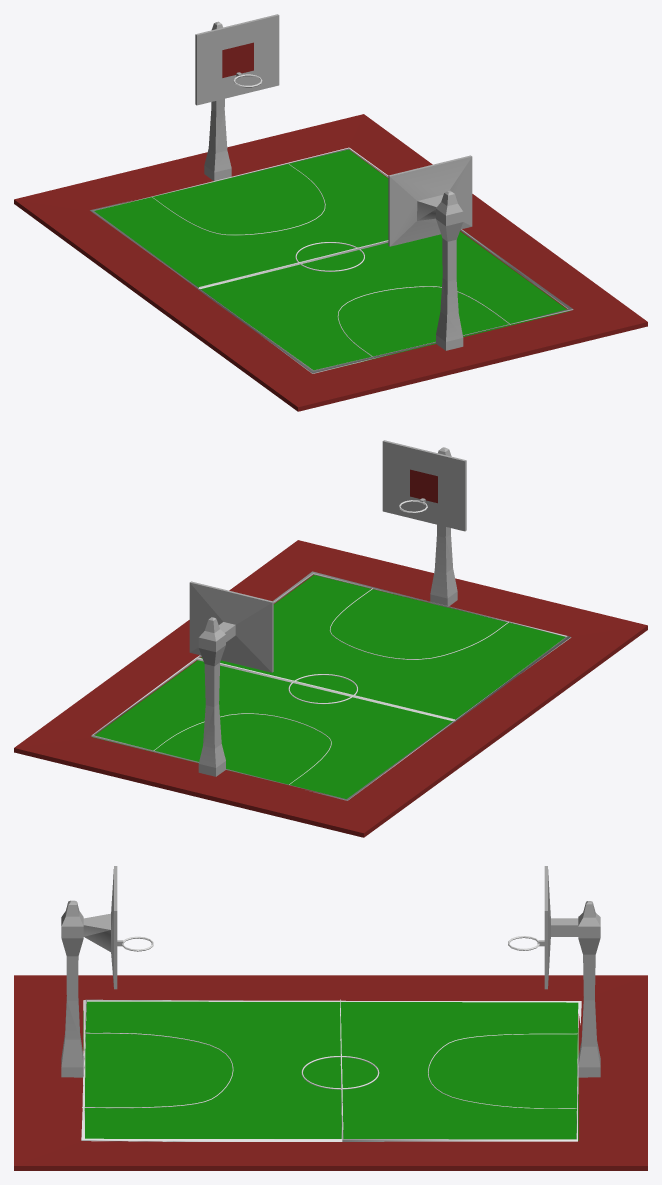
3 views of the same model, one above another, from view 1: azimuth 30°, elevation 25°; view 2: azimuth 150°, elevation 25°; view 3: azimuth 270°, elevation 25° (orthographic). The views are drawn at different scales.
Parts seen in each view (by area): view 1: Cube, BezierCurve; view 2: Cube, BezierCurve; view 3: Cube, BezierCurve, BezierCurve.002, BezierCurve.001.
Part boxes in pixels (bbox=[...]): Cube: bbox=[14, 14, 647, 411]; BezierCurve: bbox=[90, 147, 573, 373]; Cube: bbox=[14, 440, 647, 837]; BezierCurve: bbox=[91, 571, 571, 800]; Cube: bbox=[14, 866, 647, 1170]; BezierCurve: bbox=[81, 999, 581, 1141]; BezierCurve.002: bbox=[82, 1032, 233, 1108]; BezierCurve.001: bbox=[427, 1033, 577, 1108].
Size of the model in its own units: 7.89 by 3.75 by 11.09.
